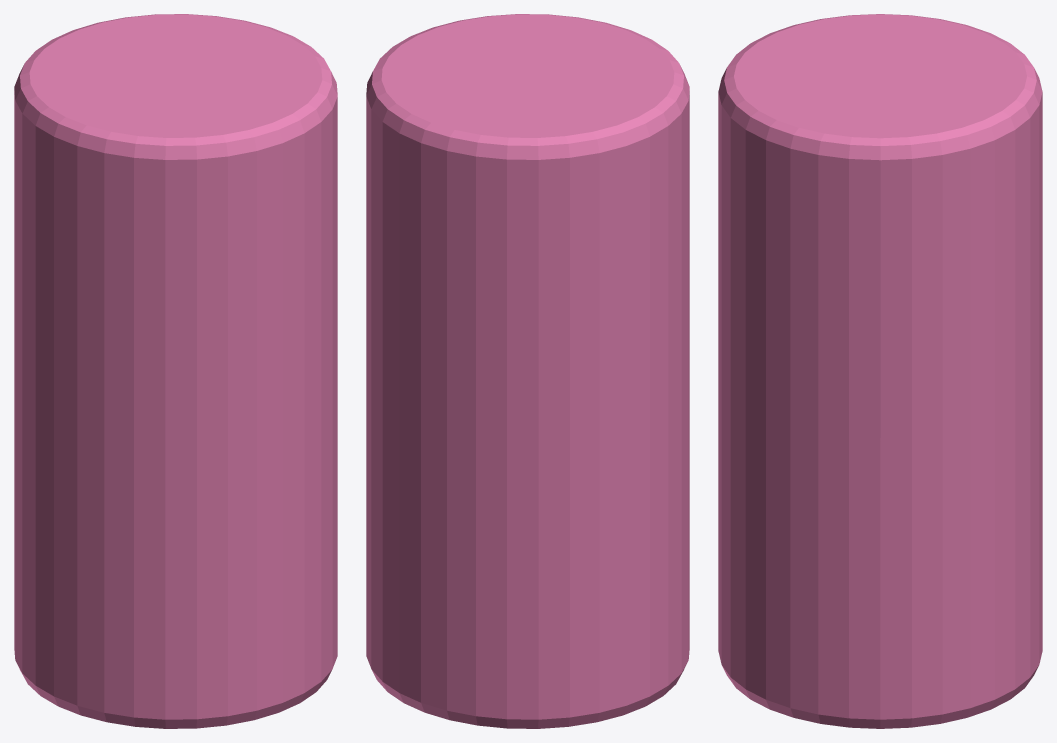
Rendered from block_cylinder.fbx.
The picture shows the model from 3 angles, left to right: view 1: azimuth 30°, elevation 25°; view 2: azimuth 150°, elevation 25°; view 3: azimuth 270°, elevation 25°; orthographic projection.
Visible parts, largest first — view 1: Cylinder; view 2: Cylinder; view 3: Cylinder.
Part boxes in pixels (x1,y1,x2,y2): Cylinder: (14,14,337,728); Cylinder: (366,14,689,728); Cylinder: (718,14,1042,728).
Size of the model in its own units: 50 by 100 by 50.
